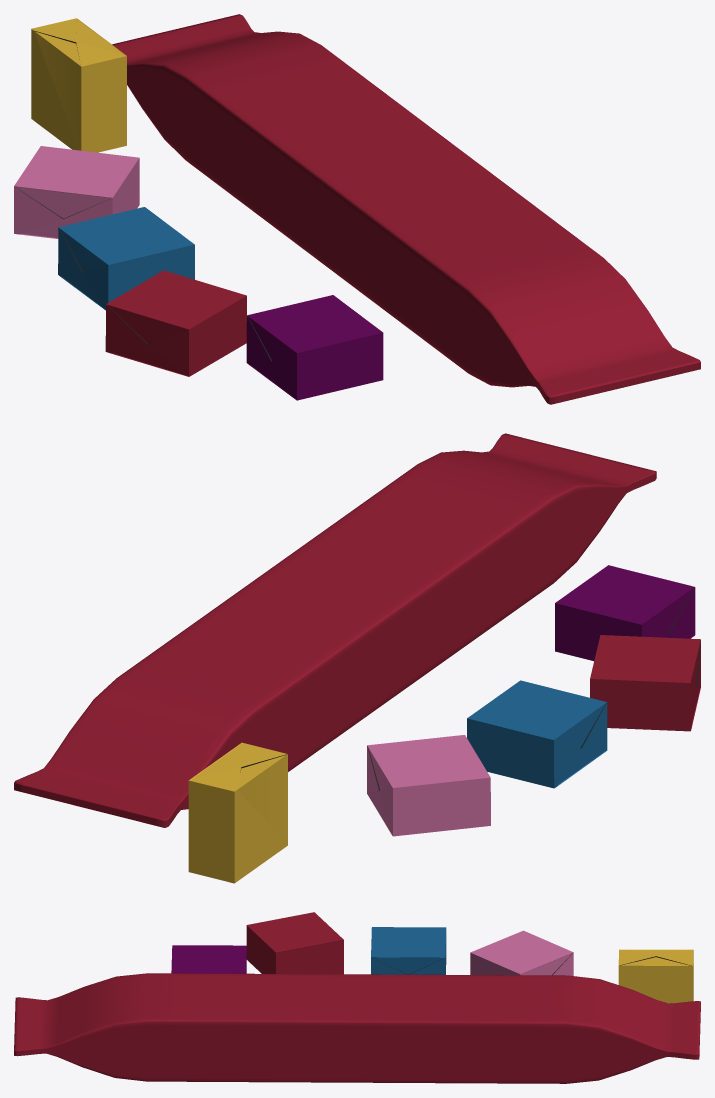
File: candy.fbx
3 views of the same model, one above another, from view 1: azimuth 30°, elevation 25°; view 2: azimuth 150°, elevation 25°; view 3: azimuth 270°, elevation 25° (orthographic). The views are drawn at different scales.
Parts seen in each view (by area): view 1: StarburstCandy_219_Box001, StarburstCandy_219_Box004, StarburstCandy_219_Box005, StarburstCandy_219_Box006, StarburstCandy_219_Box003, StarburstCandy_219_Box002; view 2: StarburstCandy_219_Box001, StarburstCandy_219_Box006, StarburstCandy_219_Box003, StarburstCandy_219_Box002, StarburstCandy_219_Box004, StarburstCandy_219_Box005; view 3: StarburstCandy_219_Box001, StarburstCandy_219_Box004, StarburstCandy_219_Box006, StarburstCandy_219_Box003, StarburstCandy_219_Box002, StarburstCandy_219_Box005.
Boxes of the visible parts, box(x1,y1,x2,y2) form: StarburstCandy_219_Box001: box(112, 14, 700, 404); StarburstCandy_219_Box004: box(105, 270, 246, 376); StarburstCandy_219_Box005: box(246, 295, 383, 400); StarburstCandy_219_Box006: box(31, 18, 126, 152); StarburstCandy_219_Box003: box(58, 207, 194, 310); StarburstCandy_219_Box002: box(14, 146, 139, 238); StarburstCandy_219_Box001: box(14, 433, 656, 827); StarburstCandy_219_Box006: box(188, 742, 287, 883); StarburstCandy_219_Box003: box(467, 680, 607, 788); StarburstCandy_219_Box002: box(367, 735, 490, 836); StarburstCandy_219_Box004: box(590, 635, 700, 731); StarburstCandy_219_Box005: box(555, 565, 695, 660); StarburstCandy_219_Box001: box(14, 973, 700, 1083); StarburstCandy_219_Box004: box(246, 912, 343, 974); StarburstCandy_219_Box006: box(618, 949, 693, 1003); StarburstCandy_219_Box003: box(371, 927, 446, 974); StarburstCandy_219_Box002: box(470, 930, 573, 975); StarburstCandy_219_Box005: box(171, 945, 246, 973).
Size of the model in its own units: 9.59 by 2.09 by 19.64.
